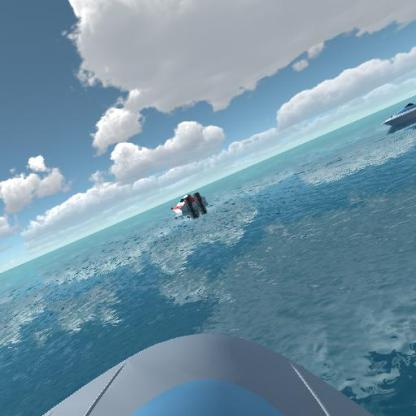usv1: (378, 100, 415, 130)
usv3: (166, 191, 212, 220)
